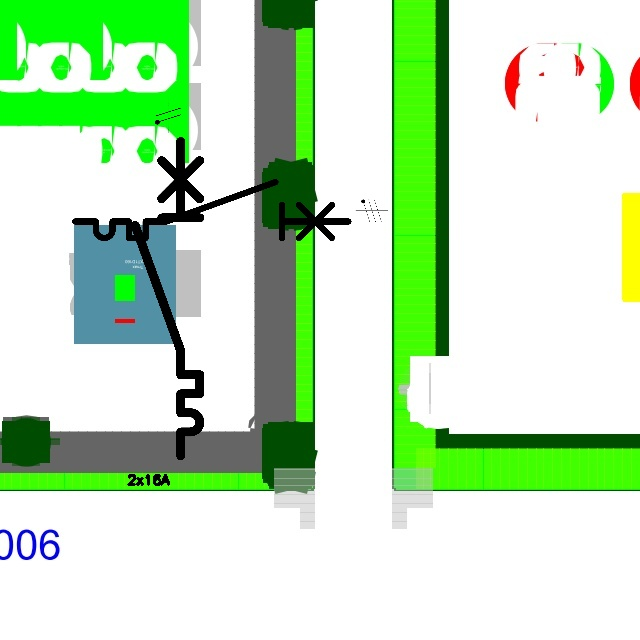interruptor_termomagnetico: (127, 133, 208, 464), (68, 175, 355, 245)
